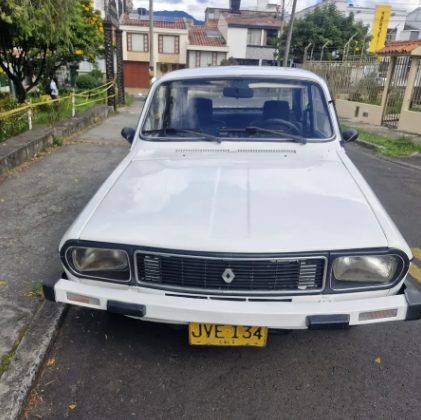placa: (188, 319, 270, 349)
